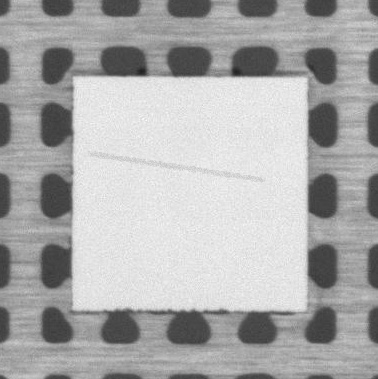DIE_CRACK: (91, 154, 263, 180)
